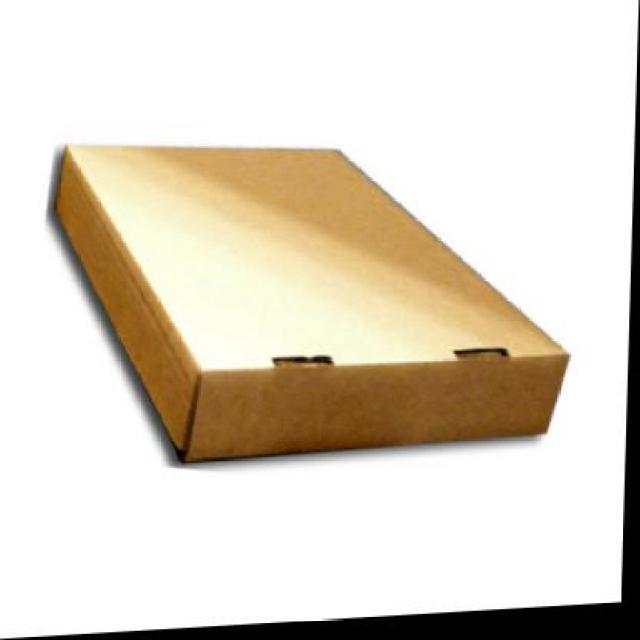box: (43, 121, 577, 466)
